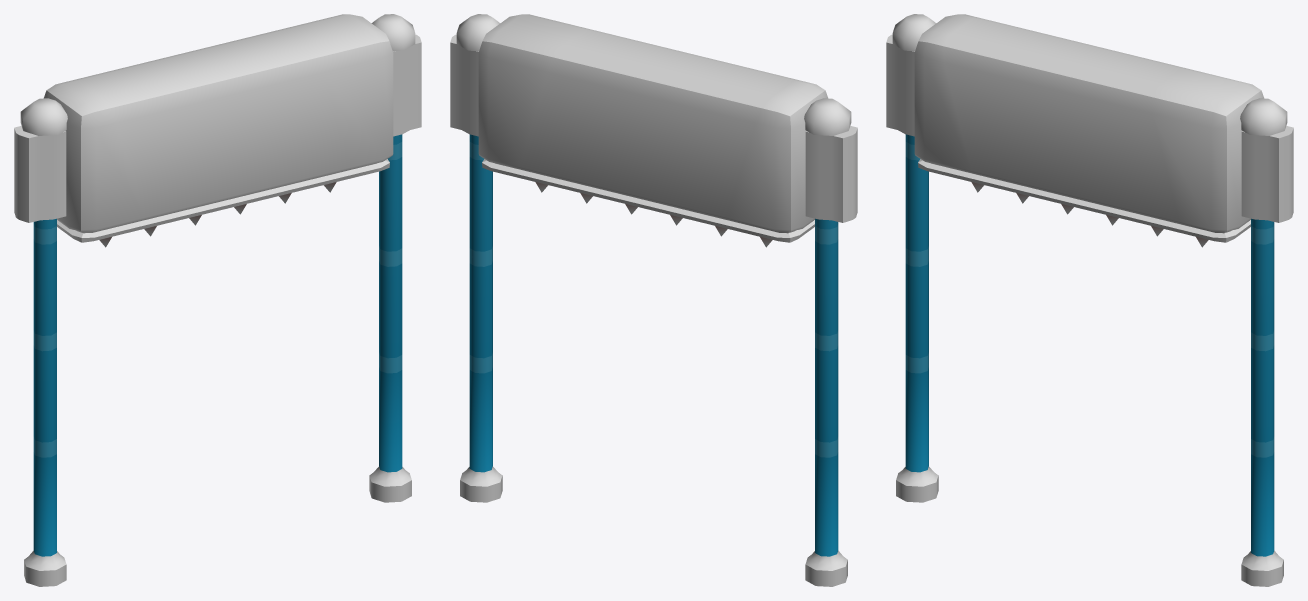
The model's file is Obstacle-3.fbx.
3 renders of one model, left to right at view 1: azimuth 30°, elevation 25°; view 2: azimuth 150°, elevation 25°; view 3: azimuth 330°, elevation 25°, orthographic.
Parts seen in each view (by area): view 1: Obs-3-D, Obs-3; view 2: Obs-3-D, Obs-3; view 3: Obs-3-D, Obs-3.
Part boxes in pixels (left/top/right/bottom): Obs-3-D: left=14, top=14, right=421, bottom=247; Obs-3: left=20, top=14, right=415, bottom=586; Obs-3-D: left=450, top=14, right=857, bottom=247; Obs-3: left=456, top=14, right=851, bottom=586; Obs-3-D: left=886, top=14, right=1293, bottom=247; Obs-3: left=892, top=14, right=1287, bottom=586.
Size of the model in its own units: 4.97 by 5.66 by 0.9498.
